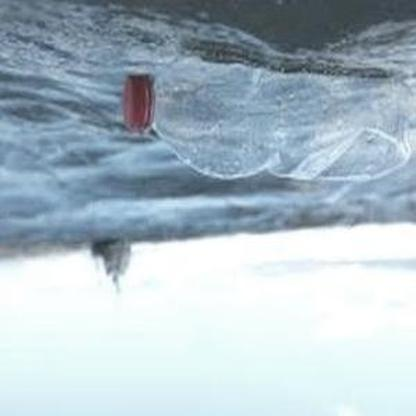plastic bottle: (123, 60, 416, 182)
